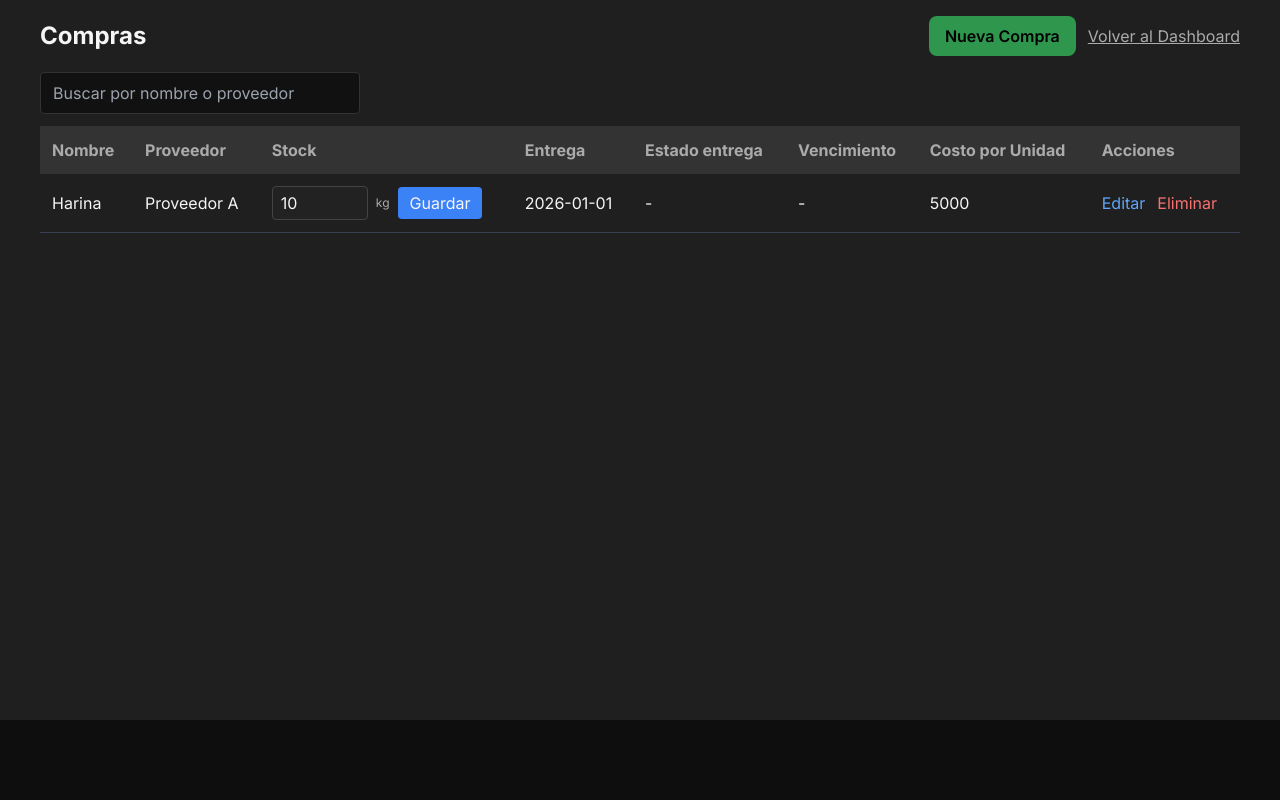
it: Purchases › admin puede eliminar y abrir formulario de edición
This screenshot has width=1280, height=800.
Expected: the text "Harina" is shown, 40,174 -> 133,232
What coordinates should you click on to do the following:
click the button "Eliminar"
I would click on:
 (1187, 203)
Its box is 1157,191 -> 1217,215.
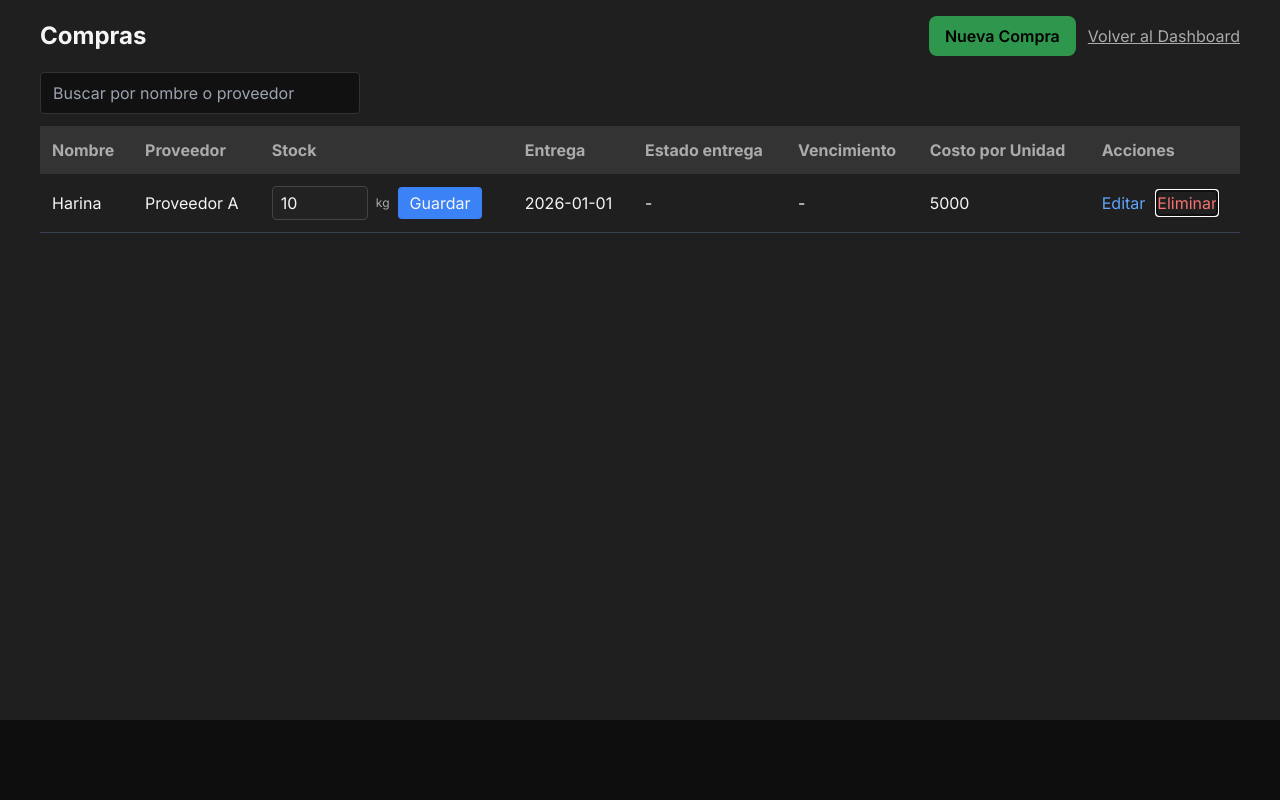
What coordinates should you click on to do the following:
click the button "Editar"
I would click on:
 (1124, 203)
Its box is 1102,191 -> 1145,215.
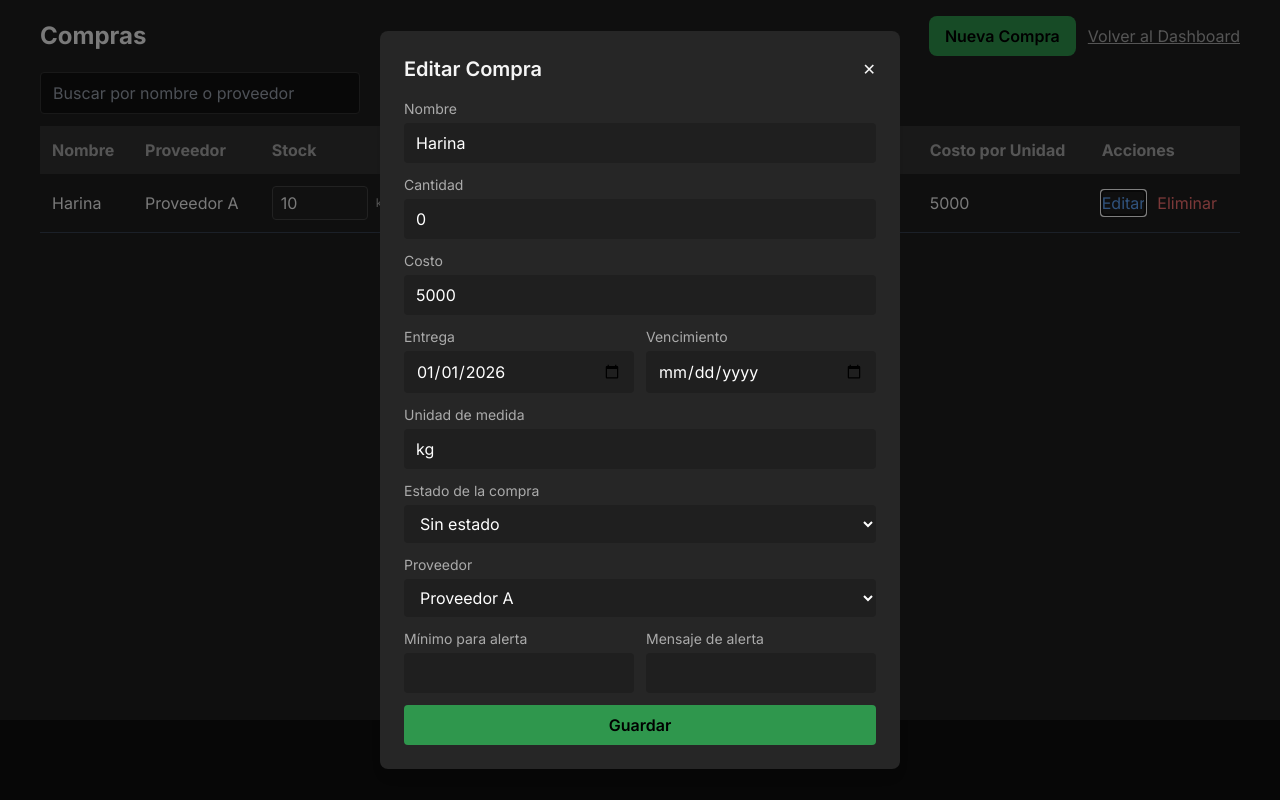
Result: the heading "Editar Compra" is shown at 404,55 -> 542,83
